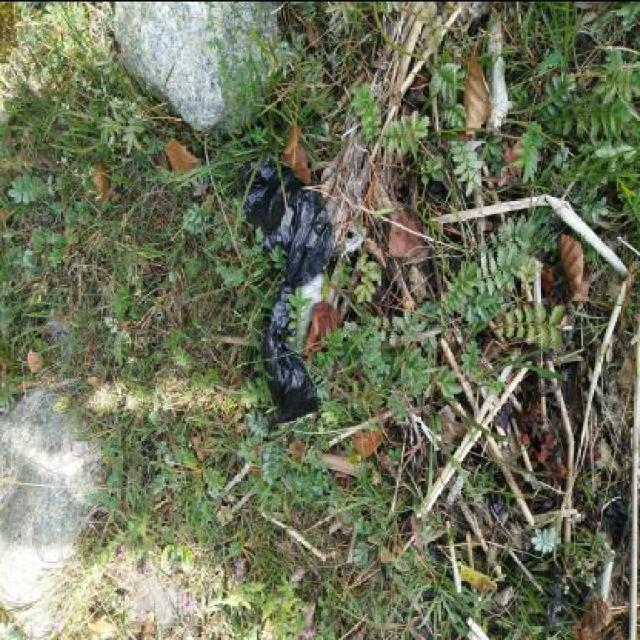plastic: (242, 148, 336, 422)
